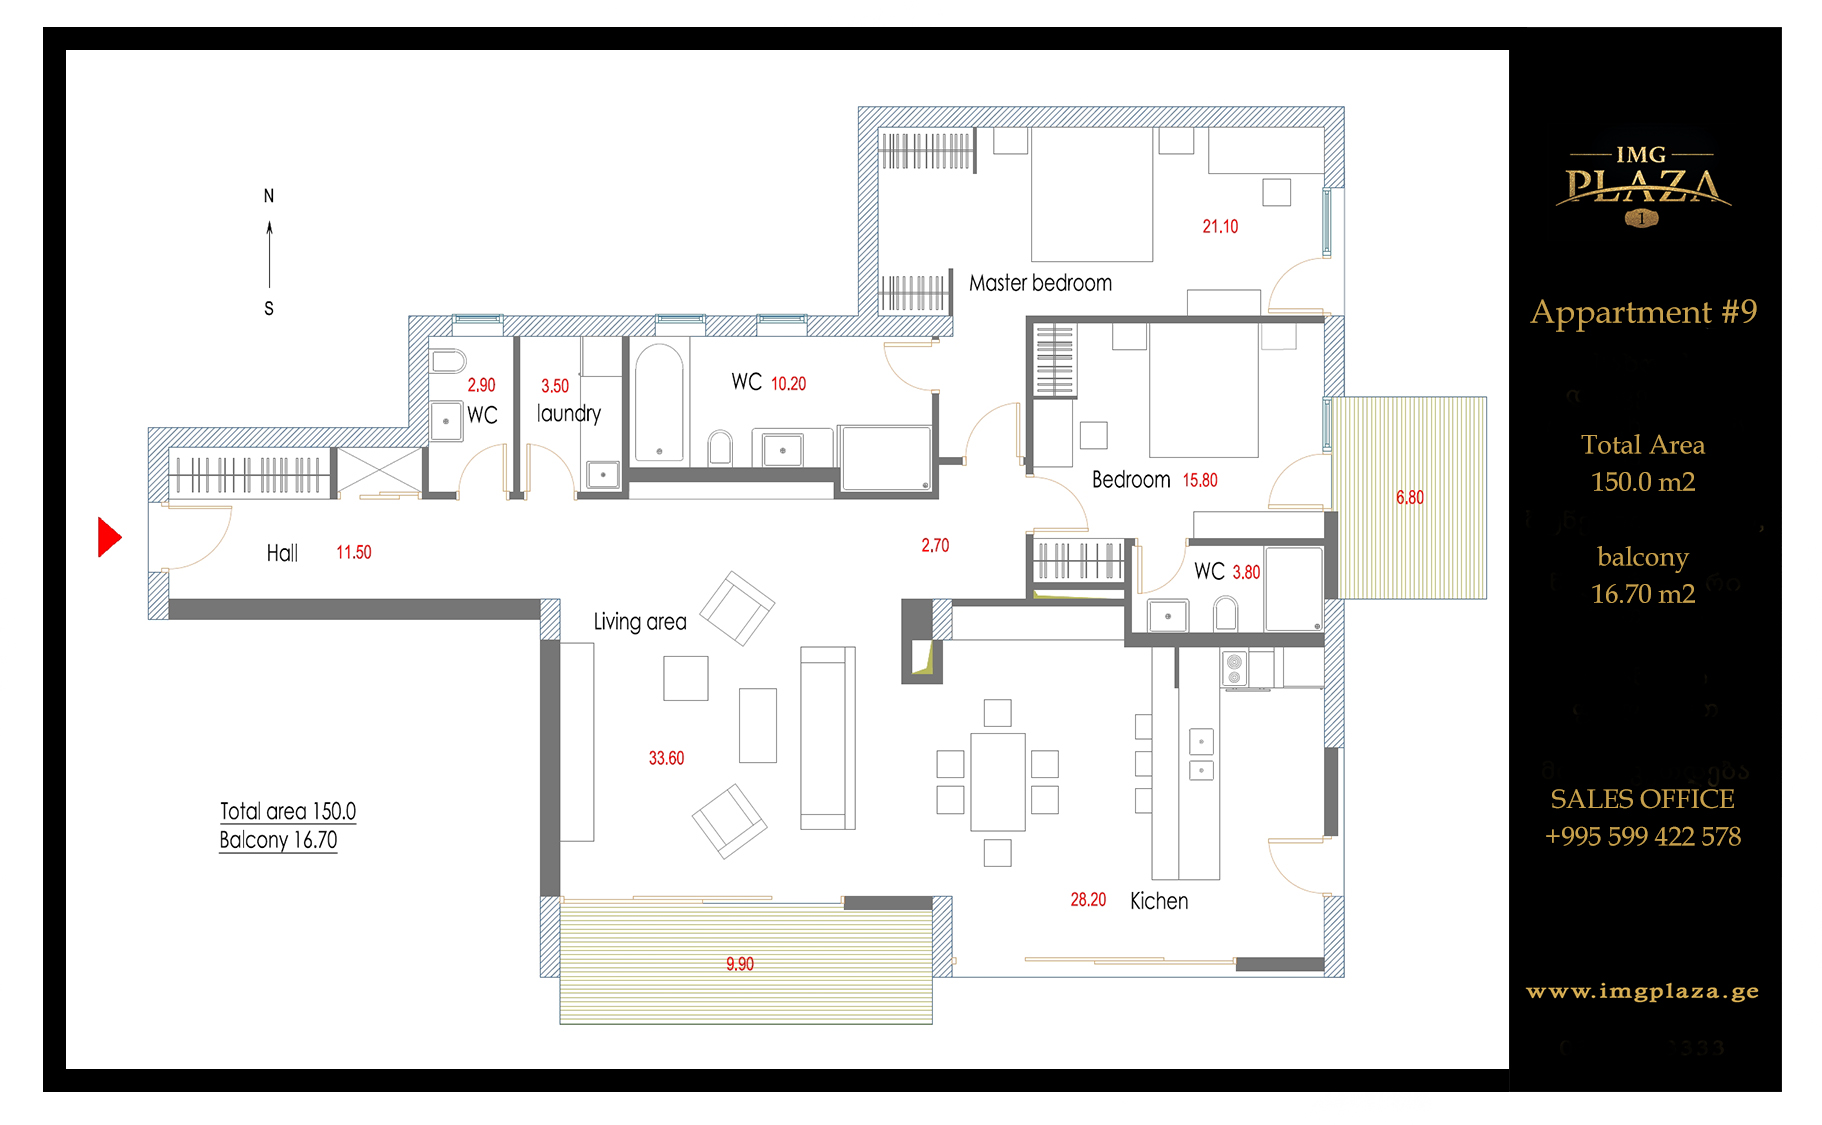door: (170, 500, 236, 574), (1261, 835, 1320, 898), (958, 398, 1023, 454), (1264, 452, 1321, 509), (1264, 257, 1321, 314), (1037, 477, 1091, 536), (521, 435, 577, 488), (454, 441, 511, 490), (882, 340, 929, 398)
wall: (858, 105, 1344, 128), (170, 599, 539, 620), (150, 428, 429, 447), (541, 641, 561, 898), (859, 105, 878, 340), (621, 467, 843, 483), (504, 316, 655, 337), (1324, 602, 1344, 747), (808, 316, 953, 337), (407, 315, 429, 451), (931, 895, 955, 979), (1324, 895, 1347, 979), (1324, 312, 1344, 398), (1325, 105, 1344, 187)
